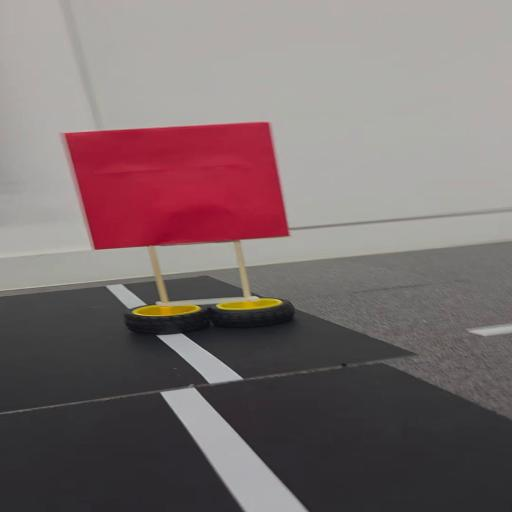Sign_A: (54, 113, 306, 345)
